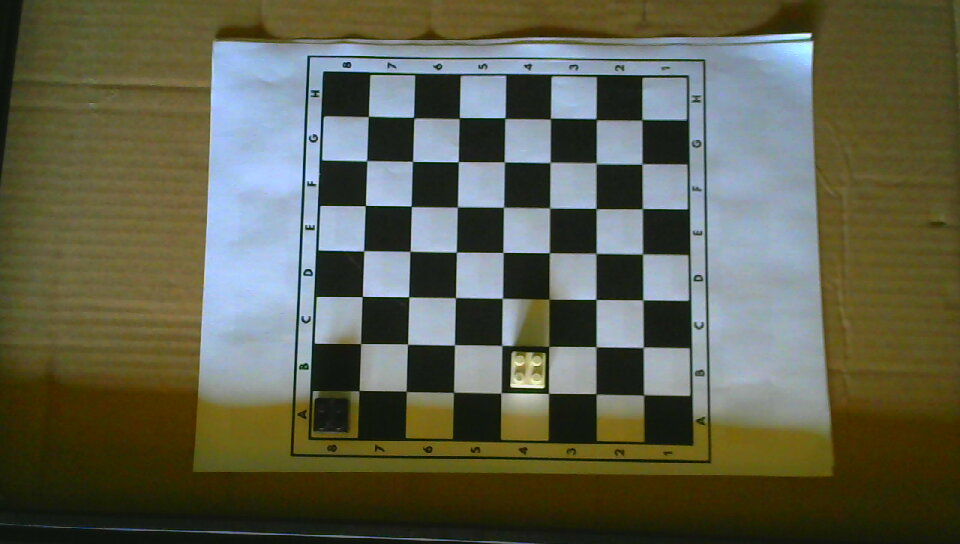bp: (312, 395, 350, 434)
wp: (509, 349, 546, 390)
